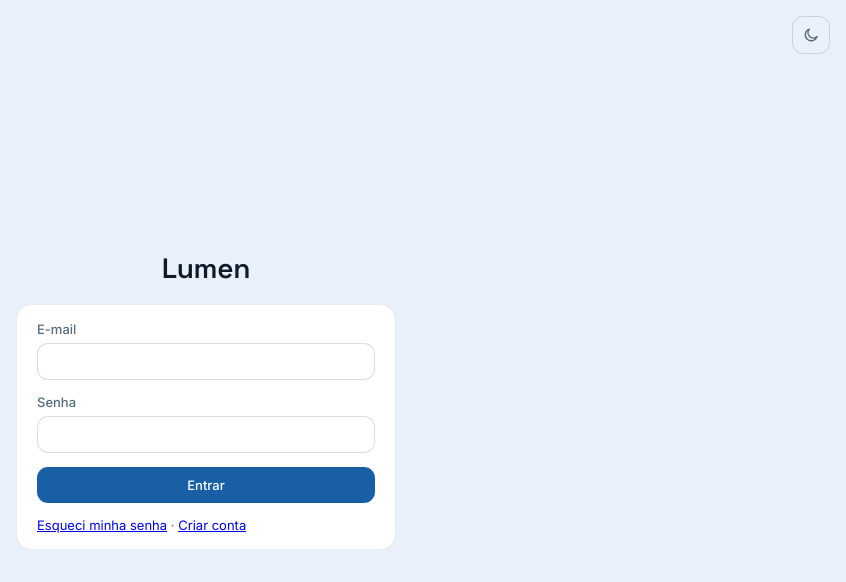
LoginPage › shows one generic error on invalid credentials (no enumeration)
Type "owner@example.com" into the field labelled "E-mail" at (206, 362), box [37,343,375,380]
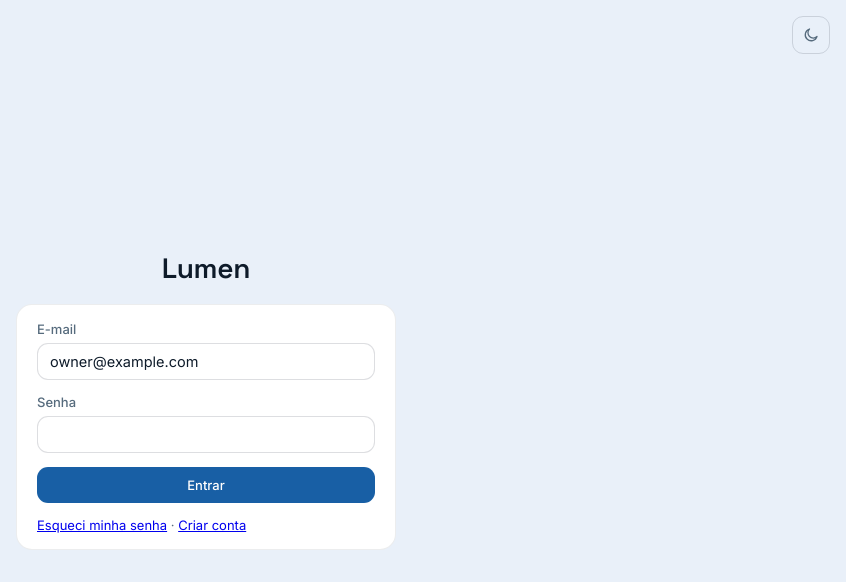
Type "wrong-password-1" into the password field labelled "Senha" at (206, 434), box [37,416,375,453]
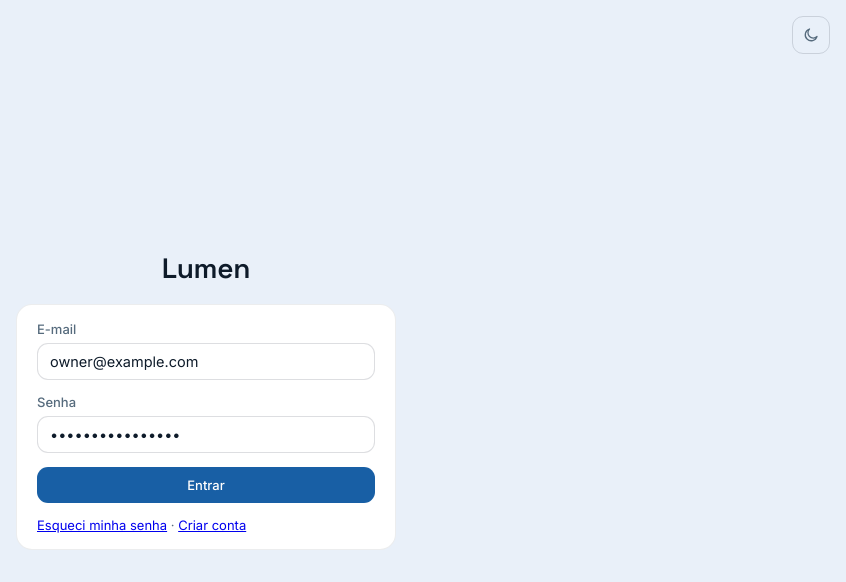
Click the button "Entrar" at (206, 485), box [37,467,375,503]
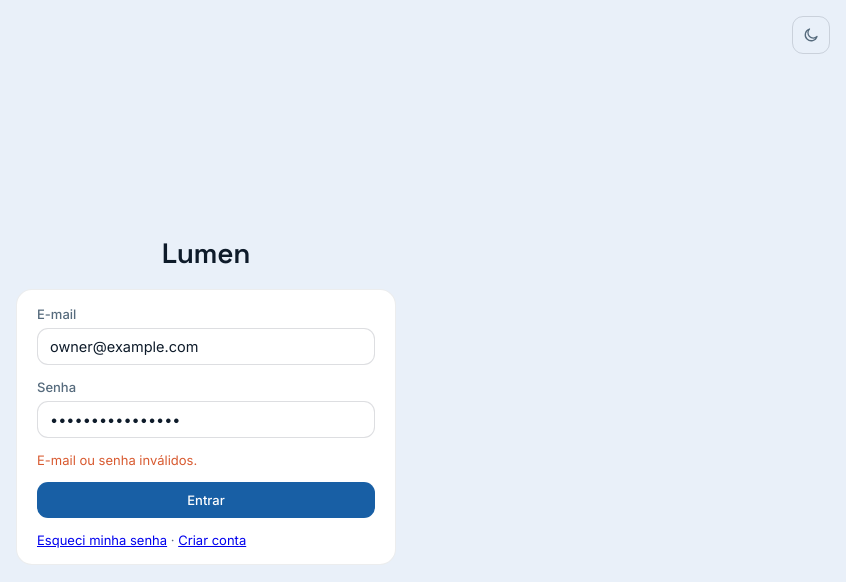
expect the text "E-mail ou senha inválidos." is shown: met, box [37,452,197,468]
